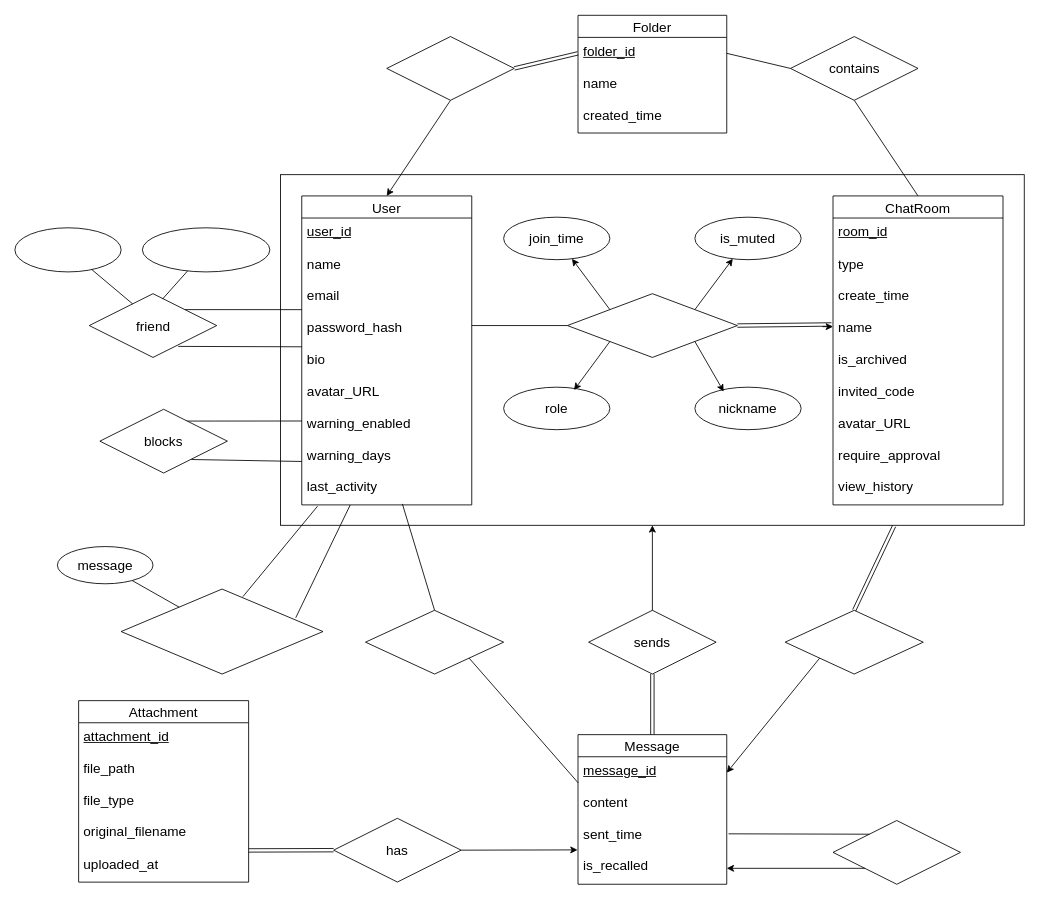
The diagram is 1040 pixels wide and 901 high, and some of its shapes have lost their labels. The centre of each missing label's shape, as x and y in pixels:
"emergency contact" belongs at point (221, 631).
"establish_time" belongs at point (206, 249).
"last_read" belongs at point (853, 641).
"mentions" belongs at point (434, 641).
"owns" belongs at point (450, 68).
"reply_to" belongs at point (896, 852).
"RoomMember" belongs at point (652, 325).
"status" belongs at point (67, 249).
